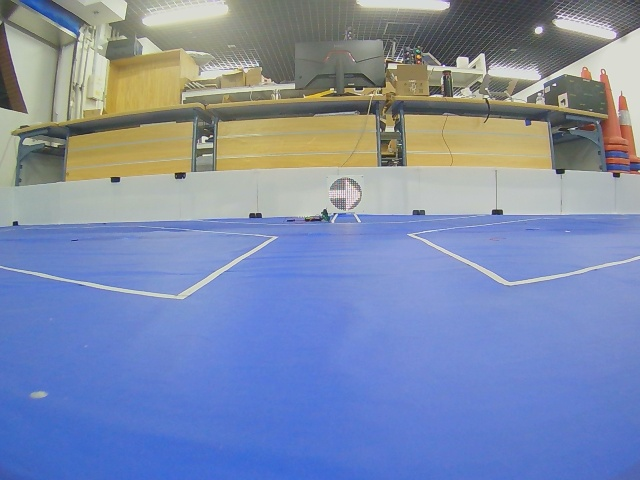right_yellow: (329, 177, 363, 211)
